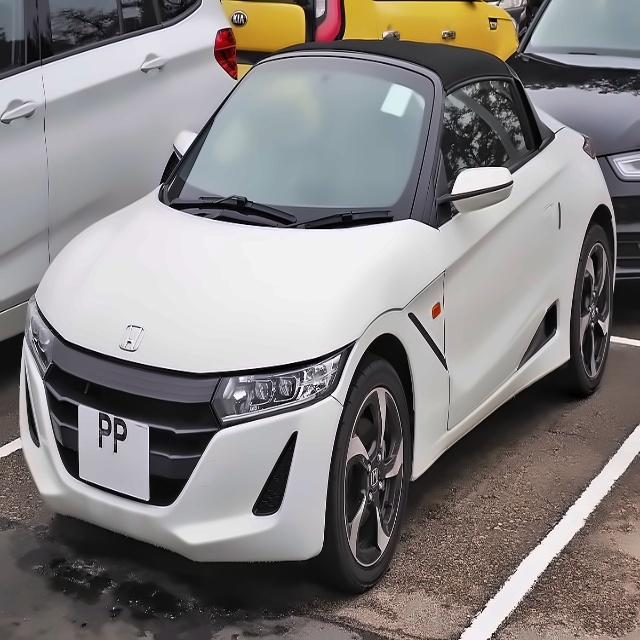Car hood: (31, 181, 445, 375)
Fender - -F-L-: (331, 219, 451, 485)
Fender - -R-L-: (561, 142, 629, 362)
Front bumper: (12, 347, 382, 568)
Headlight - -L-: (209, 346, 352, 438)
Headlight - -R-: (21, 288, 64, 383)
Passenger-s door - -F-L-: (445, 78, 564, 438)
Rear bumper: (609, 207, 630, 290)
Rear light - -L-: (574, 124, 613, 170)
Side bumper - -L-: (410, 327, 573, 497)
Side mirror - -L-: (442, 160, 517, 216)
Side mirror - -R-: (165, 123, 206, 163)
